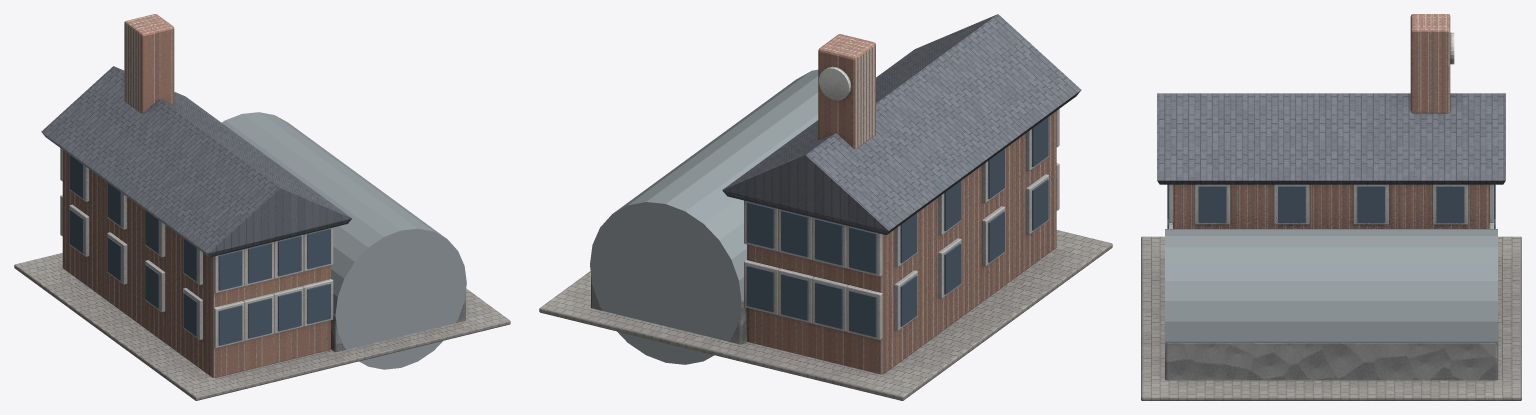
Rendered from bahnhof.glb.
3 views of the same model, side by side, from view 1: azimuth 30°, elevation 25°; view 2: azimuth 150°, elevation 25°; view 3: azimuth 270°, elevation 25° (orthographic). The views are drawn at different scales.
Visible parts, largest first — view 1: bahnhof, bahnhof_details; view 2: bahnhof, bahnhof_details; view 3: bahnhof, bahnhof_details.
Part boxes in pixels (x1,y1,x2,y2): bahnhof: [14, 14, 510, 400]; bahnhof_details: [69, 112, 466, 369]; bahnhof: [539, 14, 1112, 400]; bahnhof_details: [590, 69, 1048, 364]; bahnhof: [1141, 14, 1521, 400]; bahnhof_details: [1165, 184, 1497, 352].
Size of the model in its own units: 0.96 by 0.82 by 0.96.
3 materials, 1 textured.
